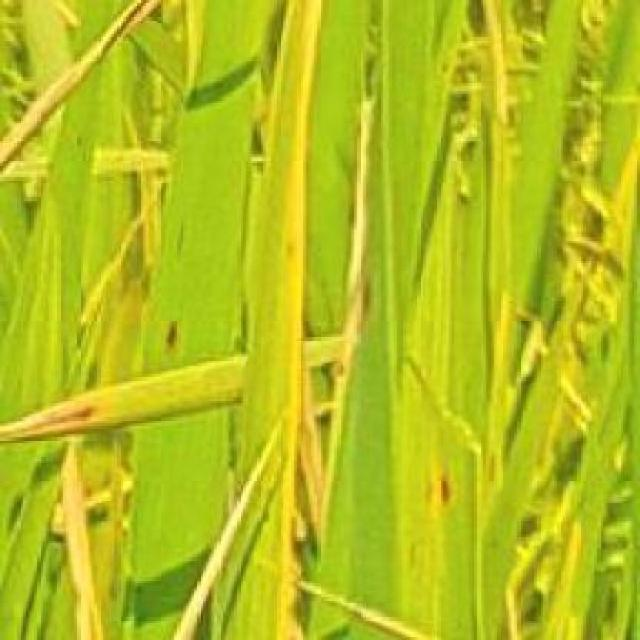Brown_Spot: (266, 2, 303, 572)
